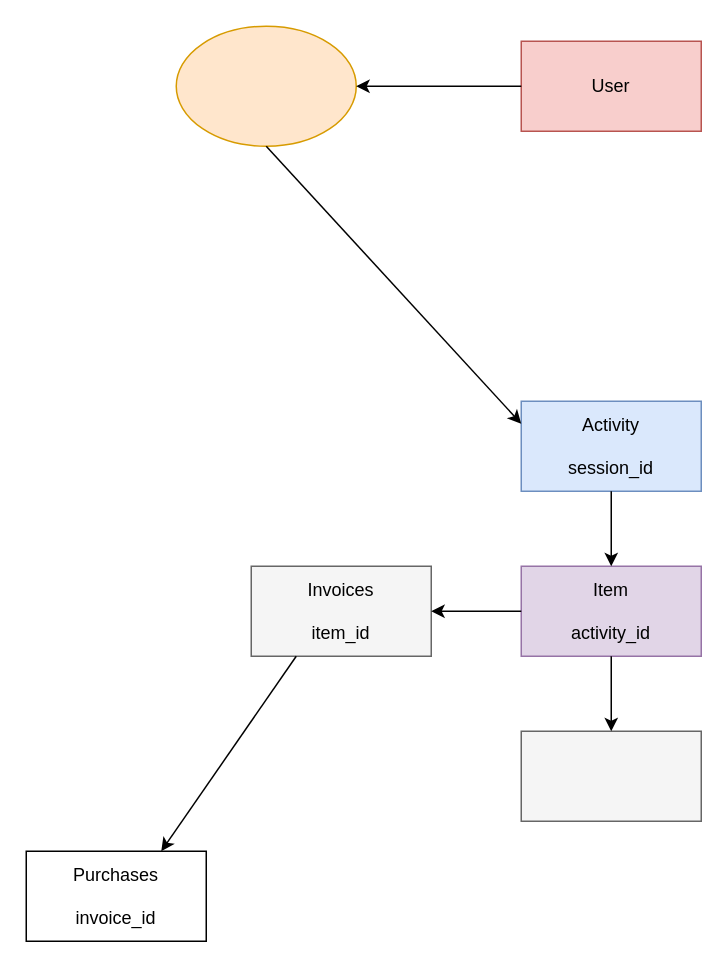
This 728x968 diagram has some shape labels left out. The shapes that lost their labels are listed below. From the top down, each one's centre as x and y in pixels, then its label:
(265,85): Session user_id
(610,775): Currencies item_id
